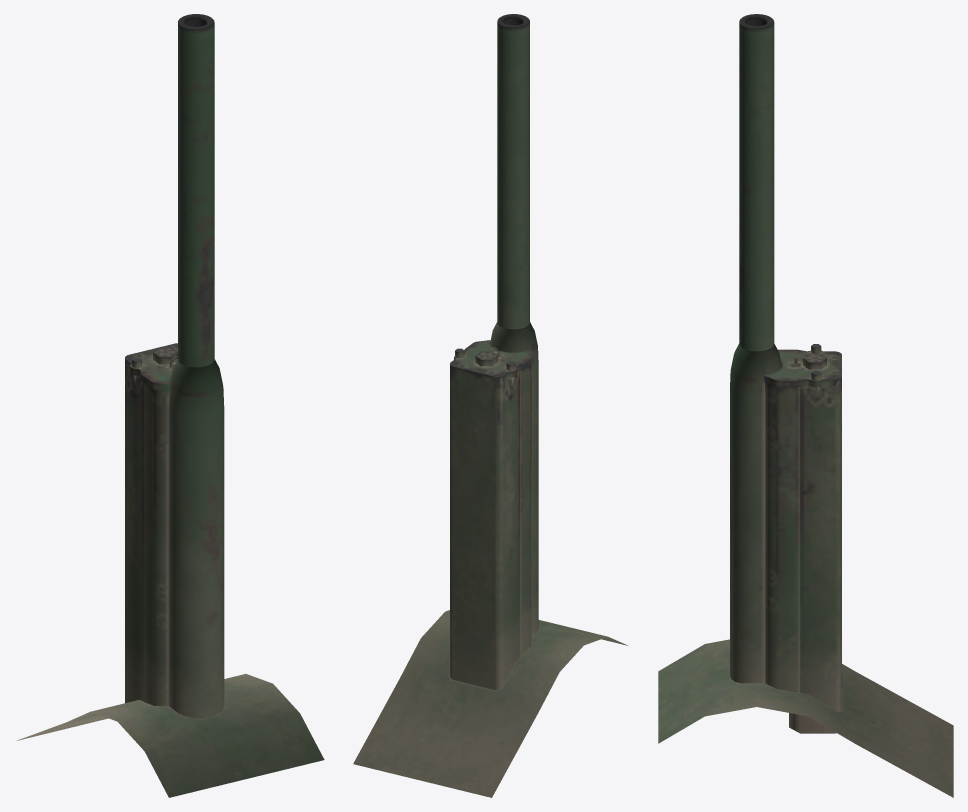
The model's file is Gun_01.glb.
The picture shows the model from 3 angles, left to right: view 1: azimuth 30°, elevation 25°; view 2: azimuth 150°, elevation 25°; view 3: azimuth 270°, elevation 25°; orthographic projection. The views are drawn at different scales.
Parts seen in each view (by area): view 1: set_0_group_0; view 2: set_0_group_0; view 3: set_0_group_0.
Boxes of the visible parts, left/top/right/bottom form: set_0_group_0: left=16, top=14, right=324, bottom=797; set_0_group_0: left=353, top=14, right=628, bottom=797; set_0_group_0: left=658, top=14, right=953, bottom=797.
Bounding box in the file's own units: 0.3058 × 1.46 × 0.5264.
Materials: 1 (1 with a texture image).
